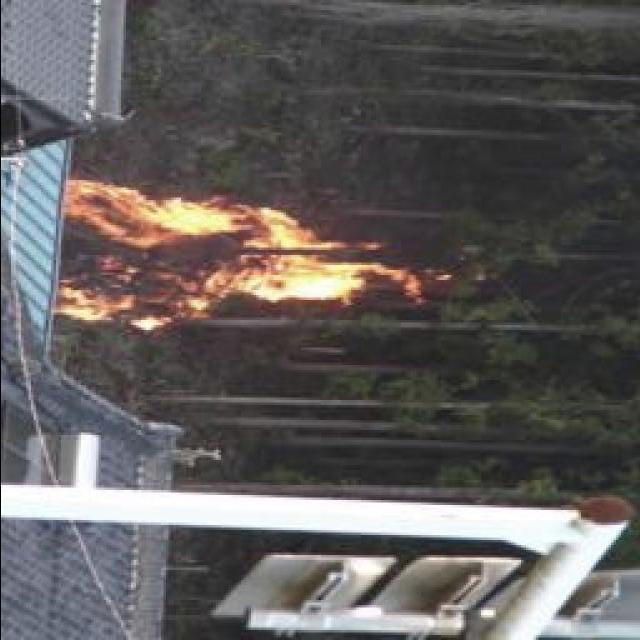Fire: (61, 185, 428, 333)
